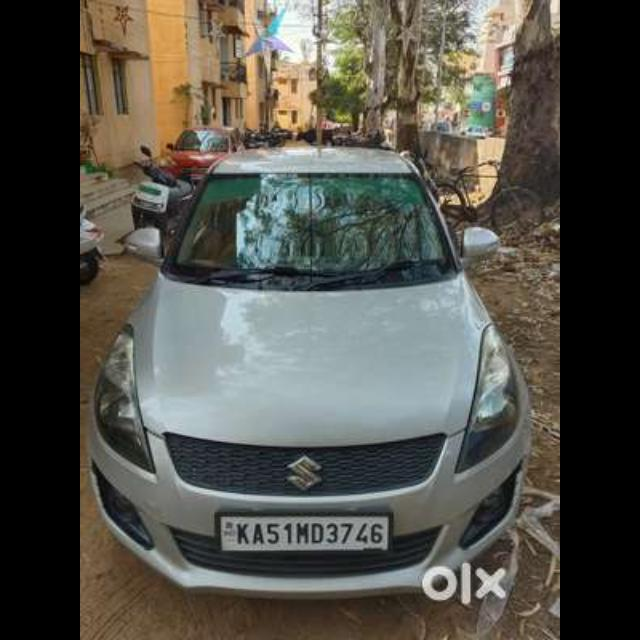vehicles: (94, 145, 528, 598), (160, 124, 242, 184)
